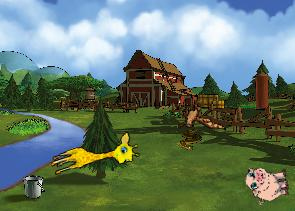eagle: (172, 96, 226, 142)
giraffe: (47, 129, 142, 186)
pig: (244, 161, 291, 205)
